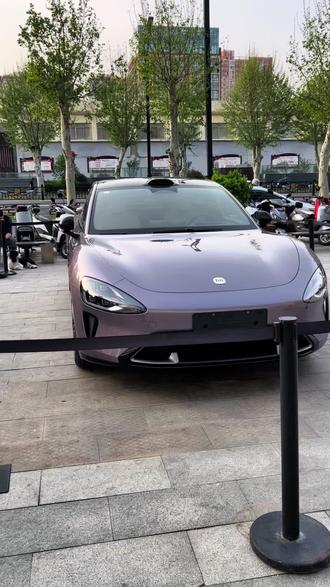su7: (61, 174, 330, 372)
